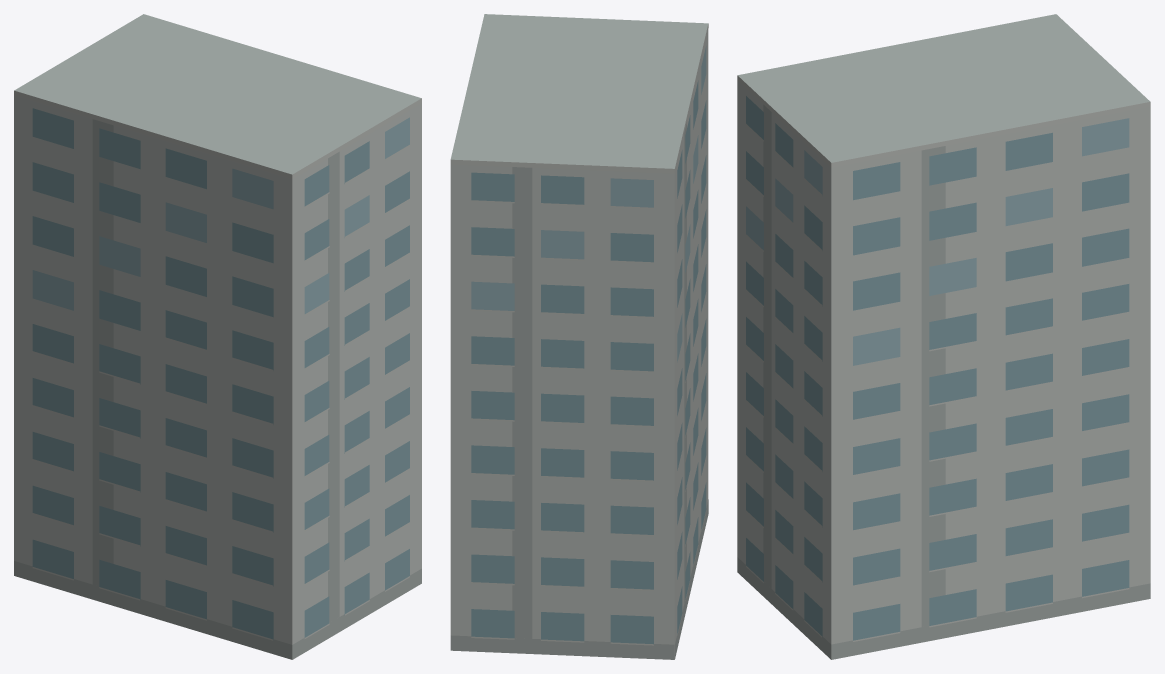
Rendered from residential-9c305f40-0d44-4a96-b049-f7e96e4d7306.glb.
3 views of the same model, side by side, from view 1: azimuth 30°, elevation 25°; view 2: azimuth 150°, elevation 25°; view 3: azimuth 270°, elevation 25° (orthographic). The views are drawn at different scales.
Parts seen in each view (by area): view 1: residential-9c305f40-0d44-4a96-b049-f7e96e4d7306.tmp; view 2: residential-9c305f40-0d44-4a96-b049-f7e96e4d7306.tmp; view 3: residential-9c305f40-0d44-4a96-b049-f7e96e4d7306.tmp.
Boxes of the visible parts, box(x1,y1,x2,y2) form: residential-9c305f40-0d44-4a96-b049-f7e96e4d7306.tmp: box(14, 14, 421, 659); residential-9c305f40-0d44-4a96-b049-f7e96e4d7306.tmp: box(450, 14, 708, 659); residential-9c305f40-0d44-4a96-b049-f7e96e4d7306.tmp: box(737, 14, 1150, 659).
Bounding box in the file's own units: 16.07 × 25 × 18.85.
